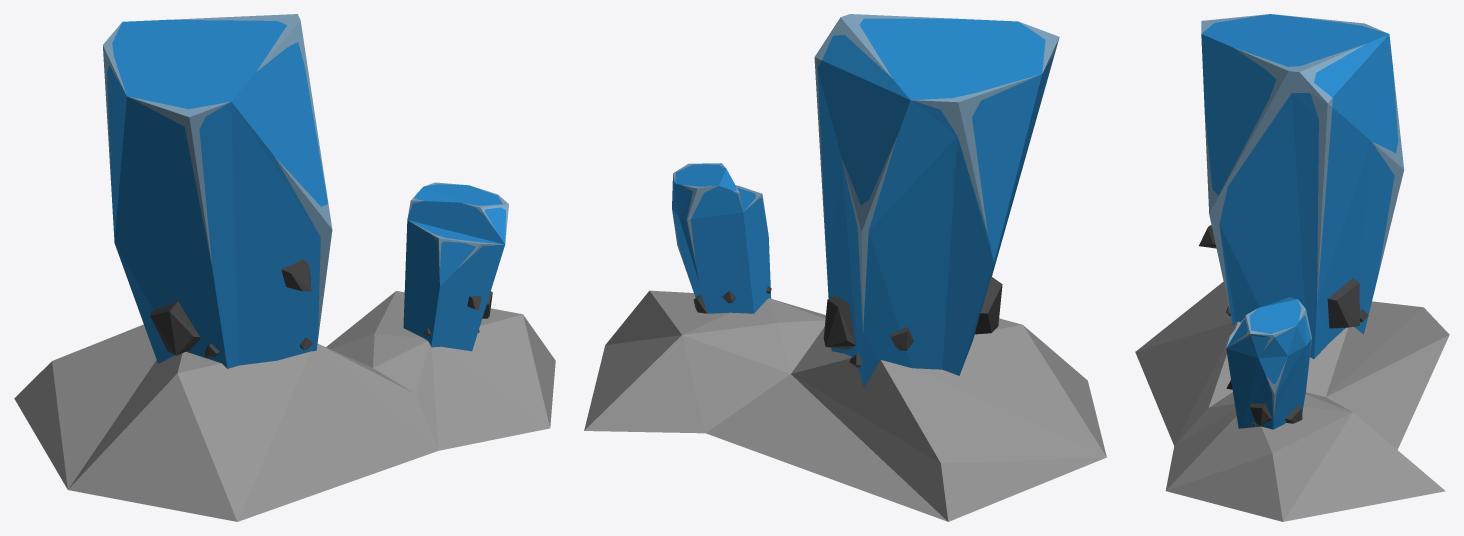
Rendered from Stone_Blue_A_07.FBX.
3 views of the same model, side by side, from view 1: azimuth 30°, elevation 25°; view 2: azimuth 150°, elevation 25°; view 3: azimuth 270°, elevation 25° (orthographic). The views are drawn at different scales.
Visible parts, largest first — view 1: Stone_Blue_A_07; view 2: Stone_Blue_A_07; view 3: Stone_Blue_A_07.
Boxes of the visible parts, x1=… form: Stone_Blue_A_07: x1=14, y1=14, x2=555, y2=521; Stone_Blue_A_07: x1=584, y1=14, x2=1106, y2=521; Stone_Blue_A_07: x1=1135, y1=14, x2=1449, y2=521.
Size of the model in its own units: 1.98 by 1.55 by 1.26.
